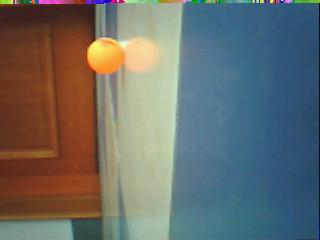oball: (86, 37, 124, 76)
